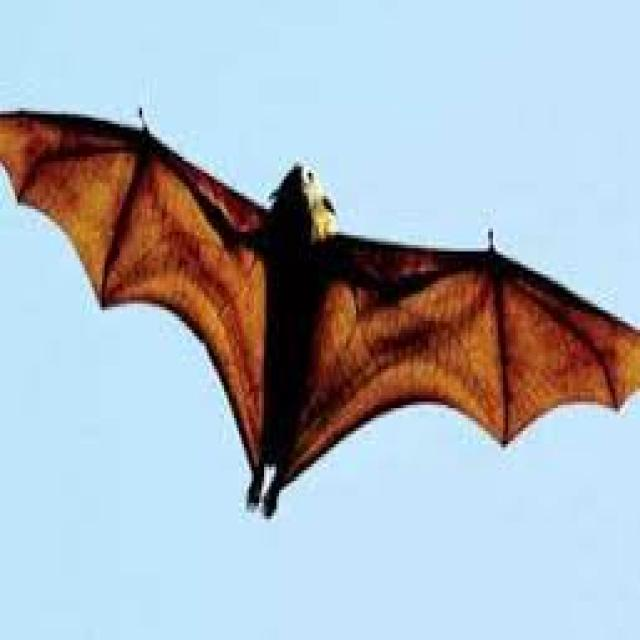bat: (0, 111, 638, 513)
